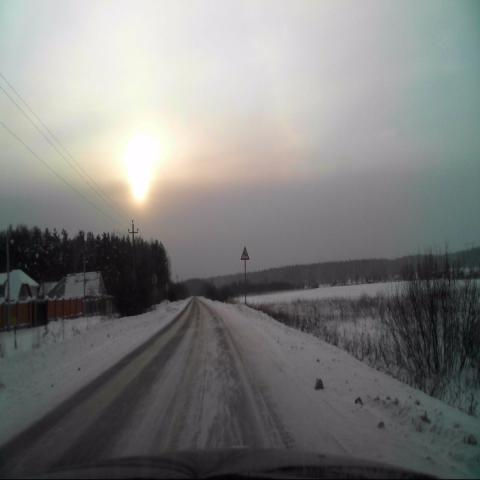1_27: (241, 245, 249, 260)
